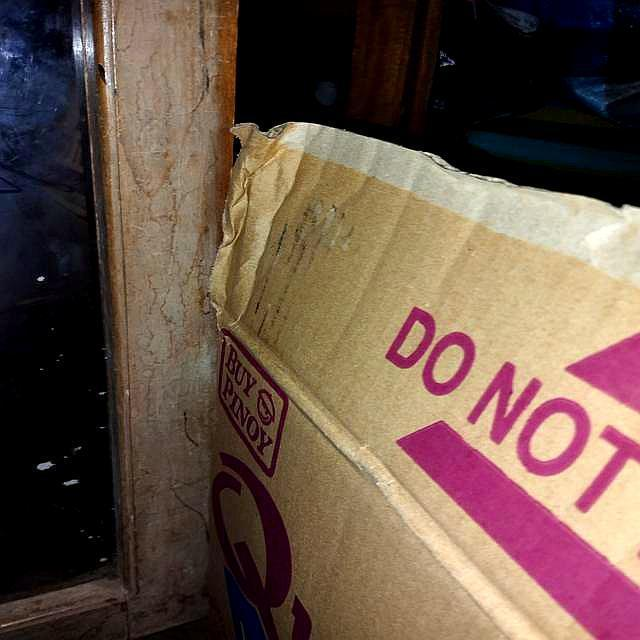Biodegradable: (209, 127, 640, 640)
